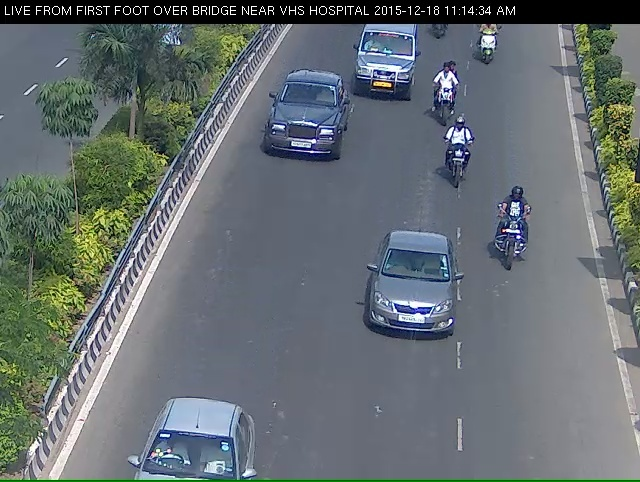Car: (361, 236, 461, 363), (267, 76, 345, 165), (353, 24, 417, 97)
Person: (492, 197, 535, 291), (427, 68, 460, 127), (450, 125, 473, 195), (477, 24, 504, 66)
